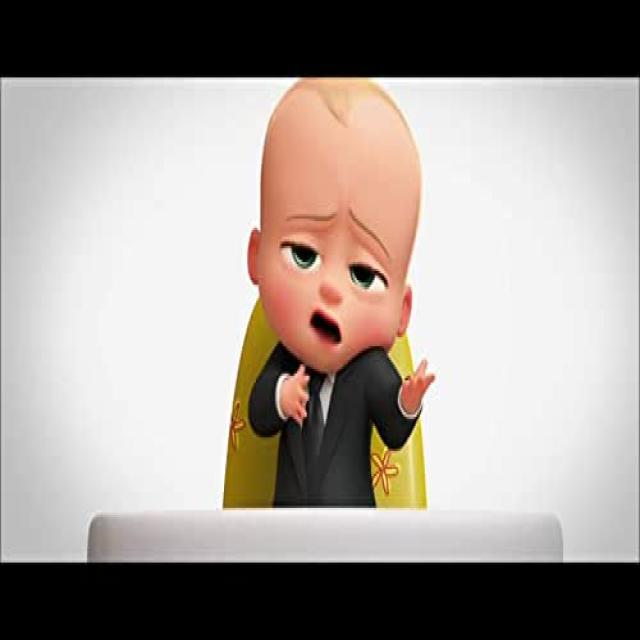non-dog: (249, 78, 434, 509)
